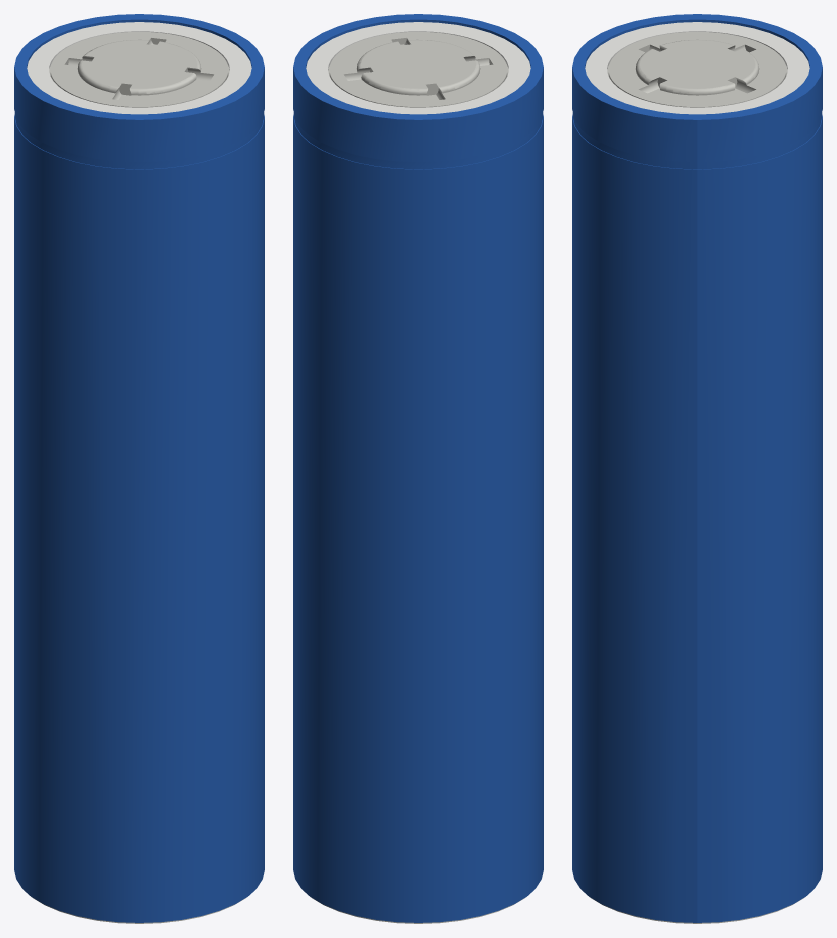
Rendered from cell-18650.glb.
The picture shows the model from 3 angles, left to right: view 1: azimuth 30°, elevation 25°; view 2: azimuth 150°, elevation 25°; view 3: azimuth 270°, elevation 25°; orthographic projection.
Visible parts, largest first — view 1: wrap, cap_pos, insulator; view 2: wrap, cap_pos, insulator; view 3: wrap, cap_pos, insulator.
Boxes of the visible parts, x1,y1,x2,y2 form: wrap: [14, 14, 264, 922]; cap_pos: [50, 32, 228, 107]; insulator: [27, 22, 251, 114]; wrap: [293, 14, 543, 922]; cap_pos: [329, 32, 507, 107]; insulator: [306, 22, 530, 114]; wrap: [572, 14, 822, 922]; cap_pos: [608, 32, 786, 107]; insulator: [585, 22, 809, 114].
Bounding box in the file's own units: 0.0183 × 0.065 × 0.0183.
